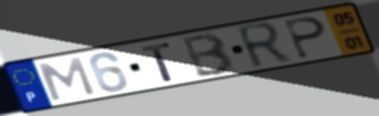6: (87, 50, 130, 93)
B: (181, 31, 237, 79)
M: (36, 55, 99, 103)
P: (282, 15, 329, 61)
R: (233, 20, 296, 72)
T: (139, 40, 176, 83)
